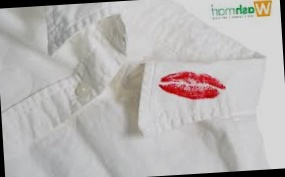lipstick: (159, 68, 227, 106)
